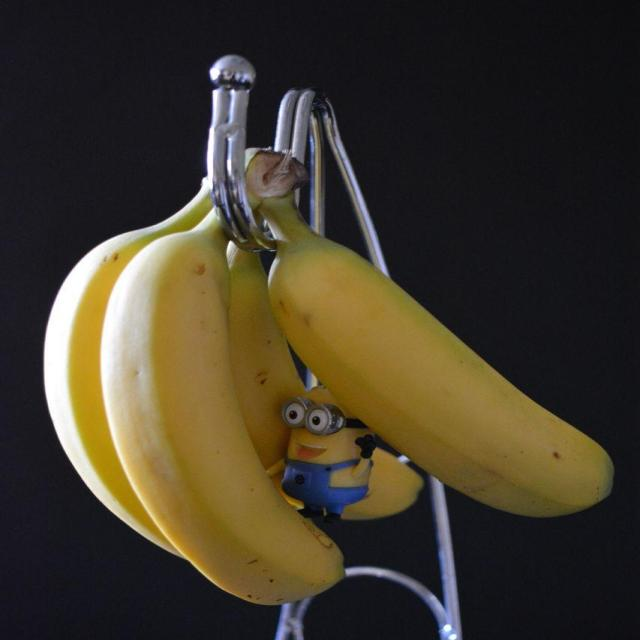banana: (267, 202, 616, 521), (101, 231, 346, 608)
